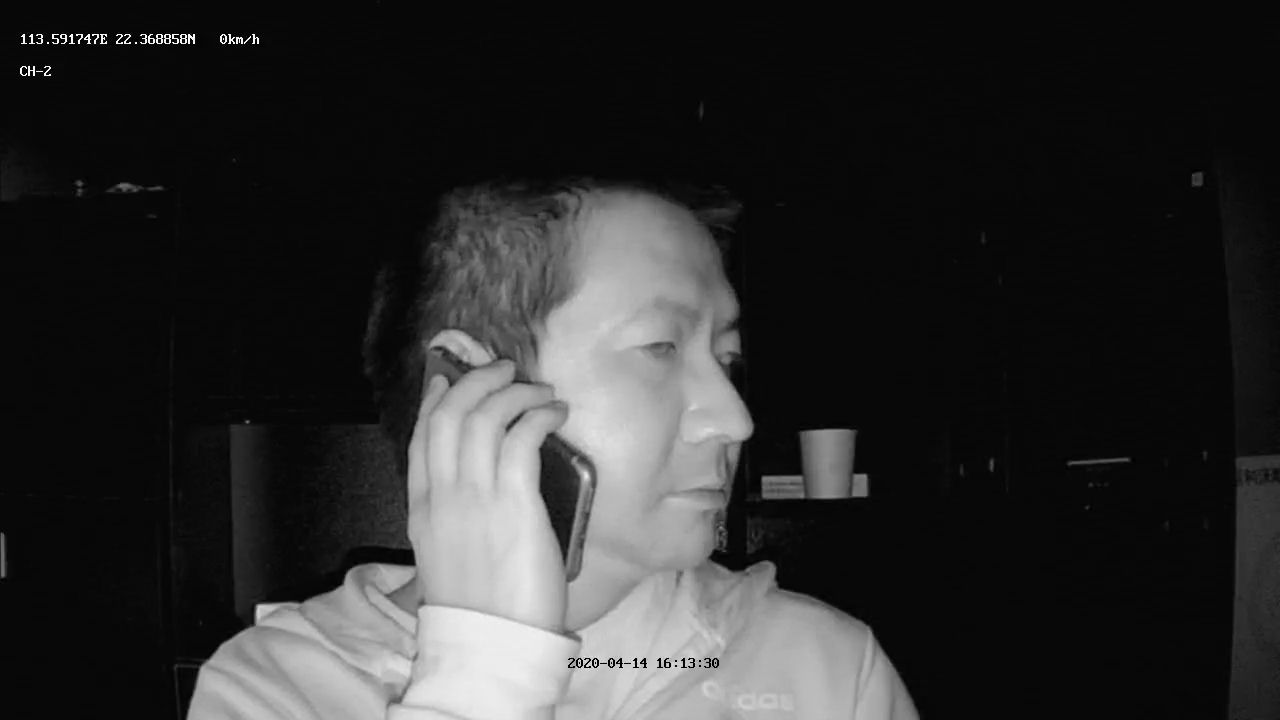call: (427, 215, 744, 565)
